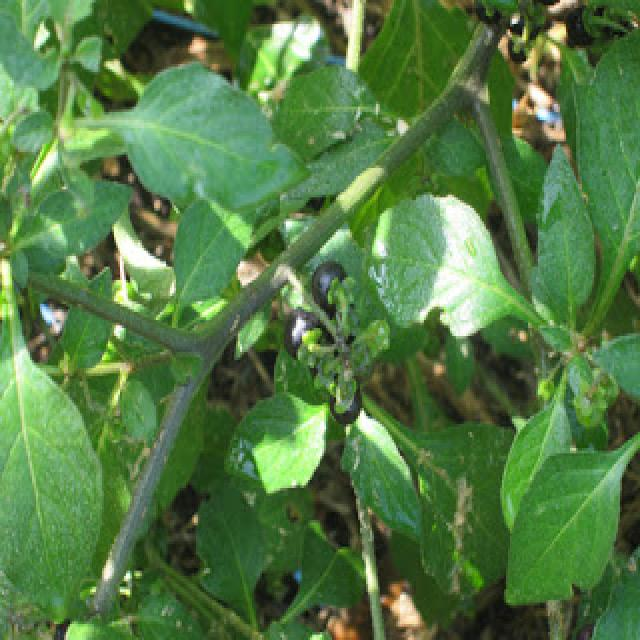Poisonous-Deadly_Nightshade: (0, 0, 265, 640), (267, 224, 445, 504)
